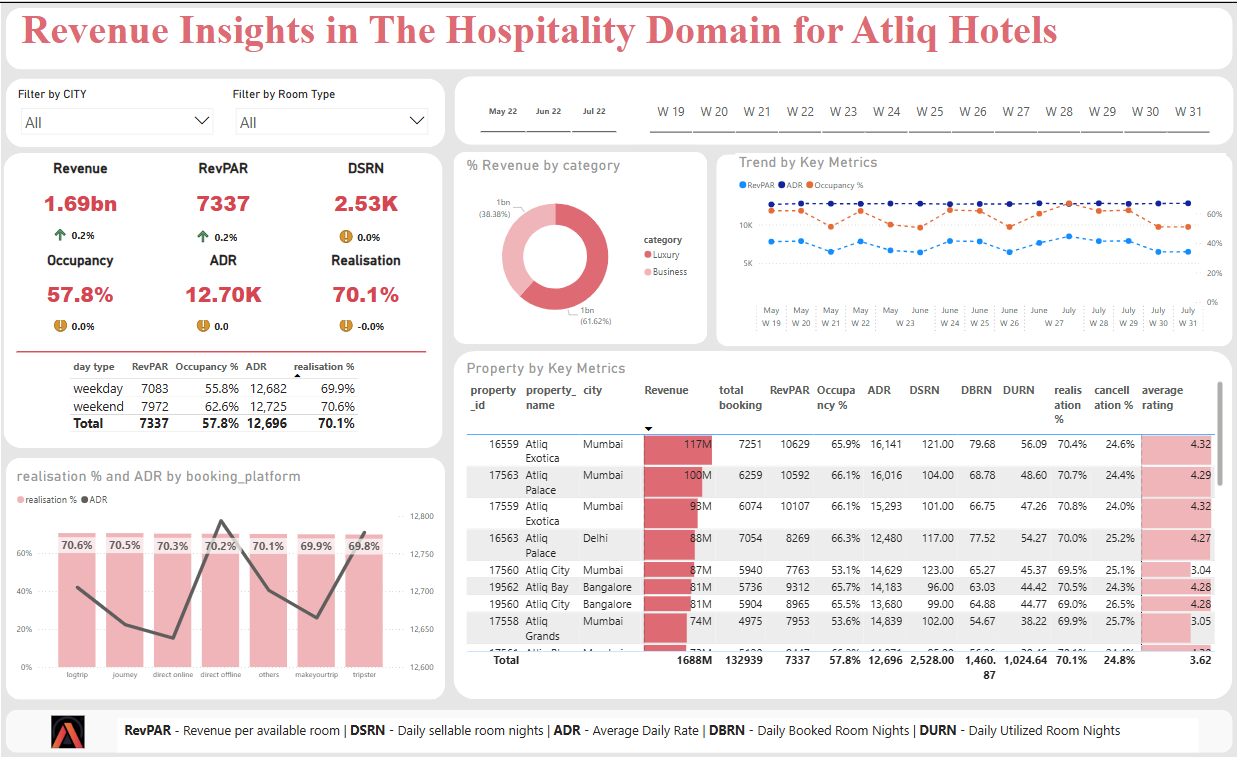

Layout of this report page (visuals, bound fields, positions):
{"tool":"powerbi","page":{"name":"Dashboard","canvas":[1800,1100],"ordinal":0},"visuals":[{"type":"shape","box":[7.2,110.9,640,100],"z":0},{"type":"shape","box":[1042.5,220,752.5,280],"z":1000},{"type":"slicer","title":"Filter by CITY","fields":{"Values":["dim_hotels.city"]},"box":[18.9,122.9,300,75],"z":2000,"group":"g6"},{"type":"shape","box":[660,507.5,1135,507.5],"z":2000},{"type":"shape","box":[3.5,218,640,430],"z":3000,"group":"g5"},{"type":"donutChart","title":"% Revenue by category","fields":{"Y":["key_measures (2).Revenue"],"Category":["dim_hotels.category"]},"box":[672.7,224,342.5,265],"z":3000,"group":"g1"},{"type":"shape","box":[7.5,662.5,640,352.5],"z":3000},{"type":"slicer","title":"Filter by Room Type","fields":{"Values":["dim_rooms.room_class"]},"box":[332.5,122.5,300,77.5],"z":4000,"group":"g6"},{"type":"shape","box":[659,216.5,370,280],"z":4000},{"type":"lineChart","title":"Trend by Key Metrics","fields":{"Category":["dim_date.week no","dim_date.mmm yy.Variation.Date Hierarchy.Month"],"Y":["key_measures (2).RevPAR","key_measures (2).ADR"],"Y2":["key_measures (2).Occupancy %"]},"box":[1069.7,218,715,270],"z":4000,"group":"g1"},{"type":"shape","box":[660.9,107.5,1135,100],"z":5000},{"type":"tableEx","fields":{"Values":["key_measures (2).revenue WoW change%"]},"box":[65.2,298.2,130,60],"z":5000,"group":"g4"},{"type":"tableEx","title":"Property by Key Metrics","fields":{"Values":["dim_hotels.property_id","dim_hotels.property_name","dim_hotels.city","key_measures (2).total revenue","key_measures (2).total booking","key_measures (2).RevPAR","key_measures (2).Occupancy %","key_measures (2).ADR","key_measures (2).DSRN","key_measures (2).DBRN","key_measures (2).DURN","key_measures (2).realisation %"]},"box":[672.5,520,1112.5,475],"z":6000},{"type":"slicer","fields":{"Values":["dim_date.mmm yy"]},"box":[672.5,121.8,247.5,72.5],"z":7000,"group":"g2"},{"type":"tableEx","fields":{"Values":["key_measures (2).Revpar WoW change %"]},"box":[273.6,298.2,130,60],"z":7000,"group":"g4"},{"type":"lineStackedColumnComboChart","fields":{"Category":["fact_bookings.booking_platform"],"Y":["key_measures (2).realisation %"],"Y2":["key_measures (2).ADR"]},"box":[18,676,618,320],"z":7000},{"type":"slicer","fields":{"Values":["dim_date.week no"]},"box":[919.4,120.6,865,75],"z":8000,"group":"g2"},{"type":"group","id":"g1","title":"Group 4","box":[672.7,218,1112,271],"z":8000},{"type":"tableEx","fields":{"Values":["dim_date.day type","key_measures (2).RevPAR","key_measures (2).Occupancy %","key_measures (2).ADR","key_measures (2).realisation %"]},"box":[94.5,514,458,126],"z":8000,"group":"g5"},{"type":"group","id":"g2","title":"Group 5","box":[672.5,120.6,1111.9,75],"z":9000},{"type":"tableEx","fields":{"Values":["key_measures (2).DSRN WoW change %"]},"box":[481.9,298.2,130,60],"z":9000,"group":"g4"},{"type":"shape","box":[7.5,7.5,1787.5,90],"z":10000},{"type":"group","id":"g3","title":"Group 2","box":[15.2,361.6,616.7,127.2],"z":10000,"group":"g5"},{"type":"textbox","box":[25,0,1545,100],"z":11000},{"type":"group","id":"g4","title":"Group 3","box":[15.2,228,616.7,130.2],"z":11000,"group":"g5"},{"type":"tableEx","fields":{"Values":["key_measures (2).Occupancy WoW change %"]},"box":[65.2,428.8,130,60],"z":11000,"group":"g3"},{"type":"group","id":"g5","title":"Group 6","box":[3.5,218,640,430],"z":12000},{"type":"tableEx","fields":{"Values":["key_measures (2).ADR WoW change %"]},"box":[273.6,428.8,130,60],"z":13000,"group":"g3"},{"type":"shape","box":[7.5,1030,1787.5,62.5],"z":13000},{"type":"shape","box":[22.6,494.7,596.7,26.7],"z":14000,"group":"g5"},{"type":"textbox","box":[170,1042.5,1575,50],"z":14000},{"type":"group","id":"g6","title":"Group 1","box":[18.9,122.5,613.6,77.5],"z":15000},{"type":"tableEx","fields":{"Values":["key_measures (2).Realisation WoW change %"]},"box":[481.9,428.8,130,60],"z":15000,"group":"g3"},{"type":"image","box":[0,1032.5,195,57.5],"z":15001},{"type":"card","title":"Revenue","fields":{"Values":["key_measures (2).total revenue"]},"box":[15.2,228,200,100],"z":21500,"group":"g4"},{"type":"card","title":"RevPAR","fields":{"Values":["key_measures (2).RevPAR"]},"box":[223.6,228,200,100],"z":22000,"group":"g4"},{"type":"card","title":"DSRN","fields":{"Values":["key_measures (2).DSRN"]},"box":[431.9,228,200,100],"z":22500,"group":"g4"},{"type":"card","title":"Occupancy ","fields":{"Values":["key_measures (2).Occupancy %"]},"box":[15.2,361.6,200,100],"z":23000,"group":"g3"},{"type":"card","title":"ADR","fields":{"Values":["key_measures (2).ADR"]},"box":[223.6,361.6,200,100],"z":23500,"group":"g3"},{"type":"card","title":"Realisation","fields":{"Values":["key_measures (2).realisation %"]},"box":[431.9,361.6,200,100],"z":24000,"group":"g3"}]}

Visuals, with their boxes in screenshot pixels (x1, y1, x2, y2), scaled from the page's 1800x1100 canvas onto the 1237x757 screenshot:
shape: left=5, top=76, right=445, bottom=145
shape: left=716, top=151, right=1234, bottom=344
"Filter by CITY" slicer: left=13, top=85, right=219, bottom=136
shape: left=454, top=349, right=1234, bottom=699
shape: left=2, top=150, right=442, bottom=446
"% Revenue by category" donutChart: left=462, top=154, right=698, bottom=337
shape: left=5, top=456, right=445, bottom=699
"Filter by Room Type" slicer: left=229, top=84, right=435, bottom=138
shape: left=453, top=149, right=707, bottom=342
"Trend by Key Metrics" lineChart: left=735, top=150, right=1226, bottom=336
shape: left=454, top=74, right=1234, bottom=143
tableEx - key_measures (2).revenue WoW change%: left=45, top=205, right=134, bottom=247
"Property by Key Metrics" tableEx: left=462, top=358, right=1227, bottom=685
slicer - dim_date.mmm yy: left=462, top=84, right=632, bottom=134
tableEx - key_measures (2).Revpar WoW change %: left=188, top=205, right=277, bottom=247
lineStackedColumnComboChart - fact_bookings.booking_platform x key_measures (2).realisation %: left=12, top=465, right=437, bottom=685
slicer - dim_date.week no: left=632, top=83, right=1226, bottom=135
"Group 4" group: left=462, top=150, right=1226, bottom=337
tableEx - dim_date.day type x key_measures (2).RevPAR: left=65, top=354, right=380, bottom=440
"Group 5" group: left=462, top=83, right=1226, bottom=135
tableEx - key_measures (2).DSRN WoW change %: left=331, top=205, right=421, bottom=247
shape: left=5, top=5, right=1234, bottom=67
"Group 2" group: left=10, top=249, right=434, bottom=336
textbox: left=17, top=0, right=1079, bottom=69
"Group 3" group: left=10, top=157, right=434, bottom=247
tableEx - key_measures (2).Occupancy WoW change %: left=45, top=295, right=134, bottom=336
"Group 6" group: left=2, top=150, right=442, bottom=446
tableEx - key_measures (2).ADR WoW change %: left=188, top=295, right=277, bottom=336
shape: left=5, top=709, right=1234, bottom=752
shape: left=16, top=340, right=426, bottom=359
textbox: left=117, top=717, right=1199, bottom=752
"Group 1" group: left=13, top=84, right=435, bottom=138
tableEx - key_measures (2).Realisation WoW change %: left=331, top=295, right=421, bottom=336
image: left=0, top=711, right=134, bottom=750
"Revenue" card: left=10, top=157, right=148, bottom=226
"RevPAR" card: left=154, top=157, right=291, bottom=226
"DSRN" card: left=297, top=157, right=434, bottom=226
"Occupancy " card: left=10, top=249, right=148, bottom=318
"ADR" card: left=154, top=249, right=291, bottom=318
"Realisation" card: left=297, top=249, right=434, bottom=318
